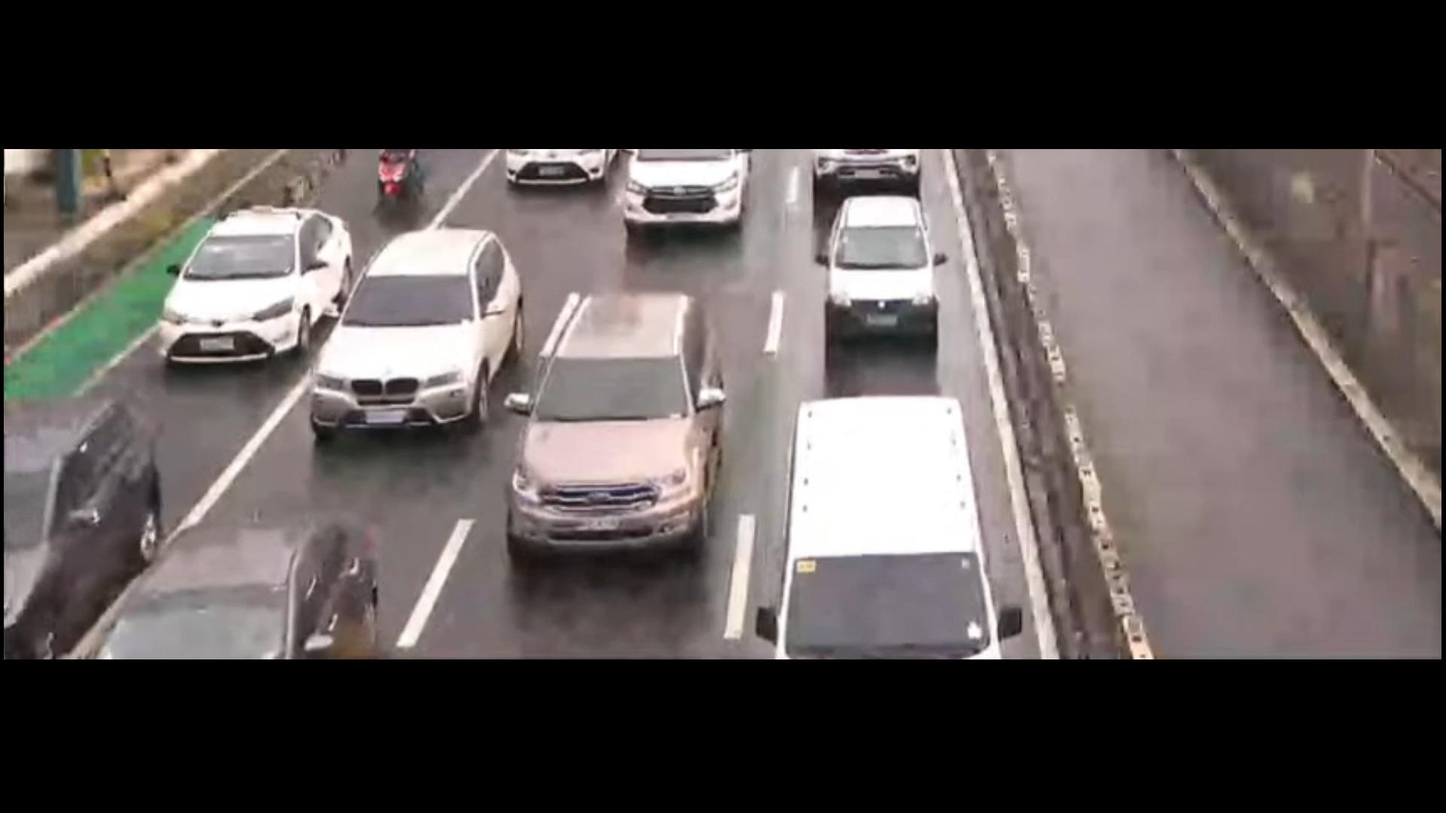Motorcycle: (375, 147, 429, 226)
SUV: (508, 290, 717, 559), (311, 226, 527, 442), (0, 397, 171, 647), (623, 141, 747, 243)
Sedan: (98, 518, 395, 657), (151, 209, 345, 369), (823, 201, 936, 346)
Van: (770, 393, 1013, 657)
